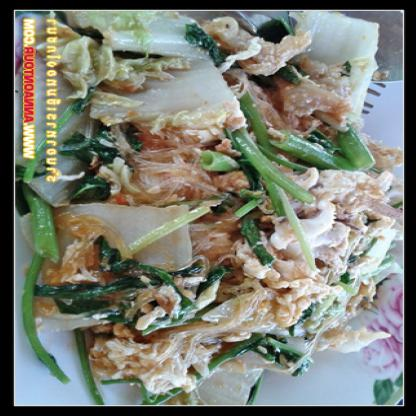Suki: (16, 9, 406, 412)
